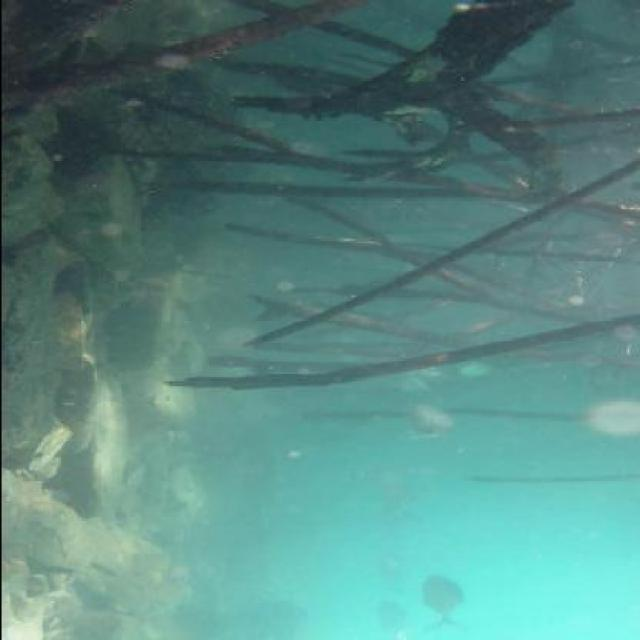Caranx_sexfasciatus_juvenile: (397, 403, 466, 452), (414, 574, 469, 632), (372, 488, 422, 544), (370, 556, 416, 610), (366, 608, 414, 640), (381, 373, 433, 395)
